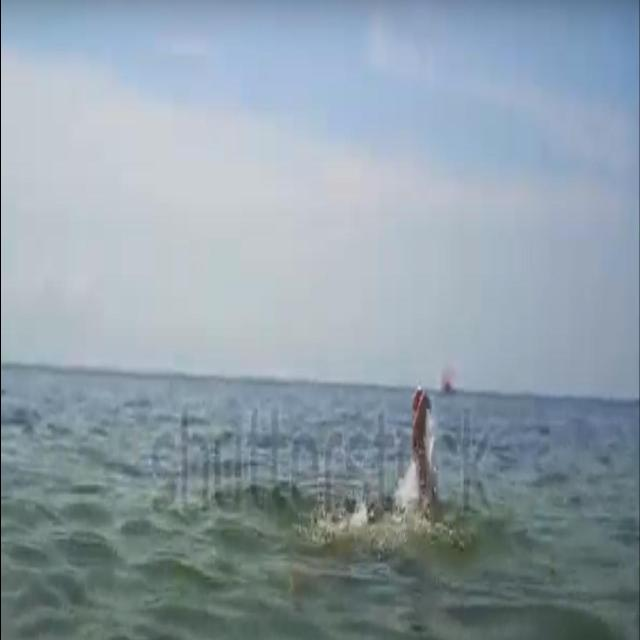Out of Water: (404, 384, 444, 518)
